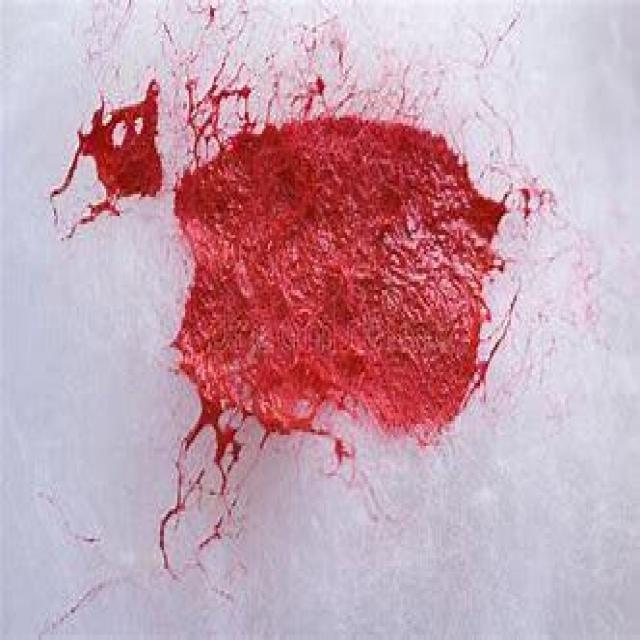wound: (53, 50, 524, 474)
